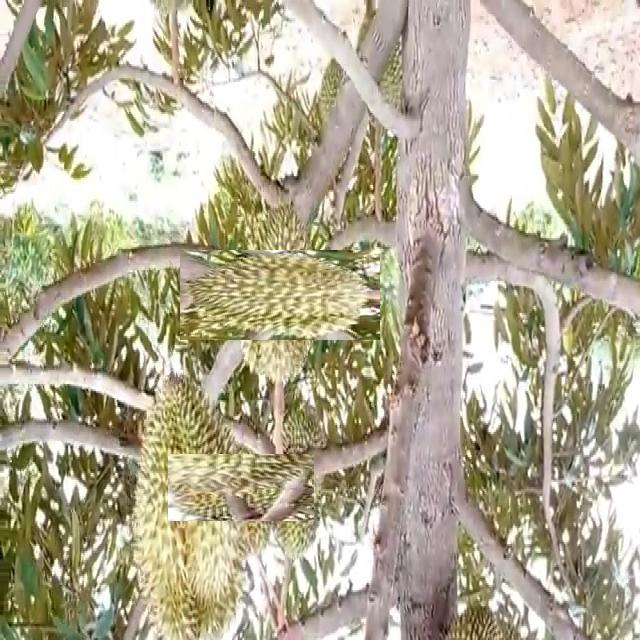durian: (128, 367, 254, 640), (207, 222, 352, 368), (188, 434, 295, 541), (262, 402, 330, 564), (354, 2, 405, 136)
